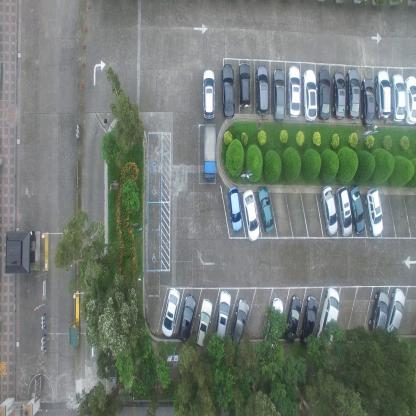car: (316, 286, 340, 350), (384, 286, 405, 341), (264, 296, 284, 350), (228, 296, 249, 346), (299, 294, 318, 349), (368, 289, 389, 338), (161, 286, 180, 338), (242, 189, 260, 242), (320, 183, 338, 236), (214, 290, 231, 346), (347, 182, 365, 234), (365, 186, 383, 237), (284, 293, 302, 344), (195, 297, 213, 348), (178, 292, 196, 343), (256, 184, 274, 232), (390, 71, 406, 123), (376, 69, 392, 121), (360, 76, 376, 128), (226, 185, 243, 233), (302, 68, 317, 122), (203, 122, 216, 184), (336, 186, 352, 236), (221, 62, 235, 119), (346, 66, 360, 121), (286, 64, 300, 119), (316, 67, 330, 121), (254, 63, 268, 116), (272, 67, 285, 121), (237, 62, 251, 109), (332, 69, 345, 119), (202, 67, 214, 120), (404, 75, 416, 126)
